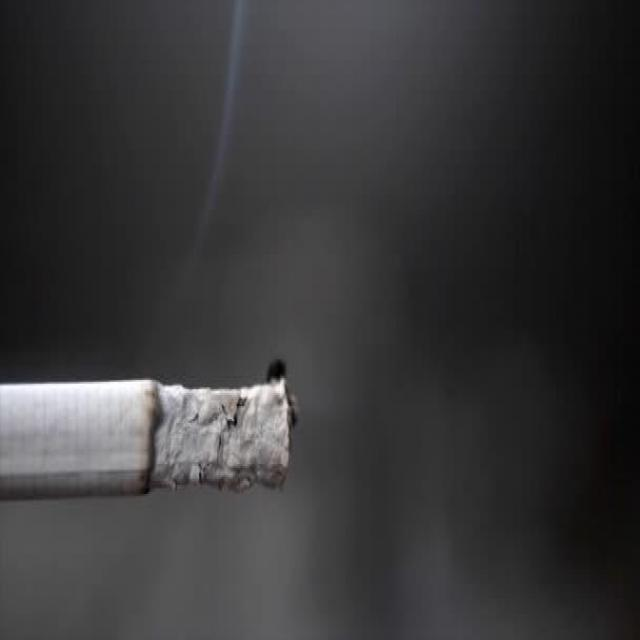cigarette: (0, 356, 291, 509)
